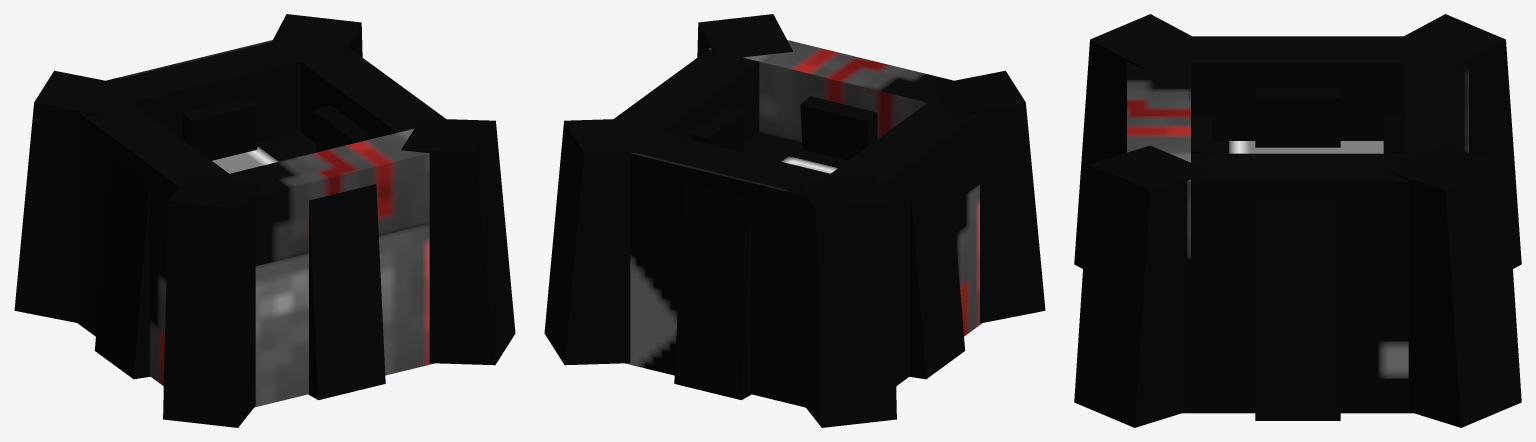
File: blood_altar.obj
3 renders of one model, left to right at view 1: azimuth 30°, elevation 25°; view 2: azimuth 150°, elevation 25°; view 3: azimuth 270°, elevation 25°, orthographic. The views are drawn at different scales.
Parts seen in each view (by area): view 1: Shape1; view 2: Shape1; view 3: Shape1.
Boxes of the visible parts, <box> form: Shape1: <box>14,14,515,427</box>; Shape1: <box>544,14,1045,427</box>; Shape1: <box>1074,14,1521,427</box>.
Size of the model in its own units: 1.31 by 0.791 by 1.31.
